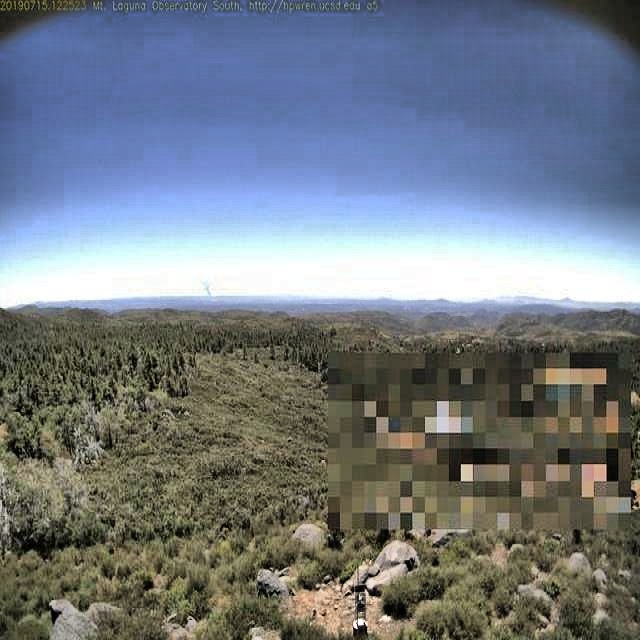smoke: (198, 275, 217, 308)
